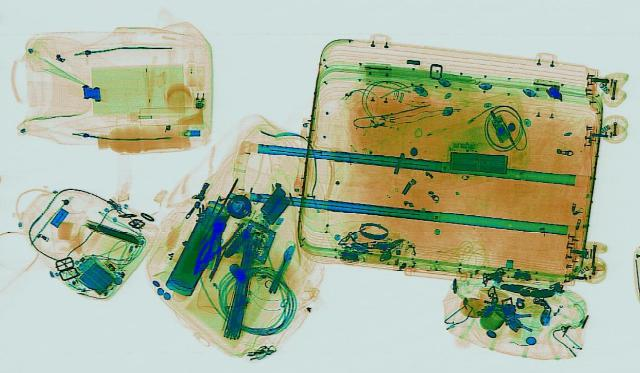Pliers: (188, 215, 235, 278), (186, 216, 244, 266)
